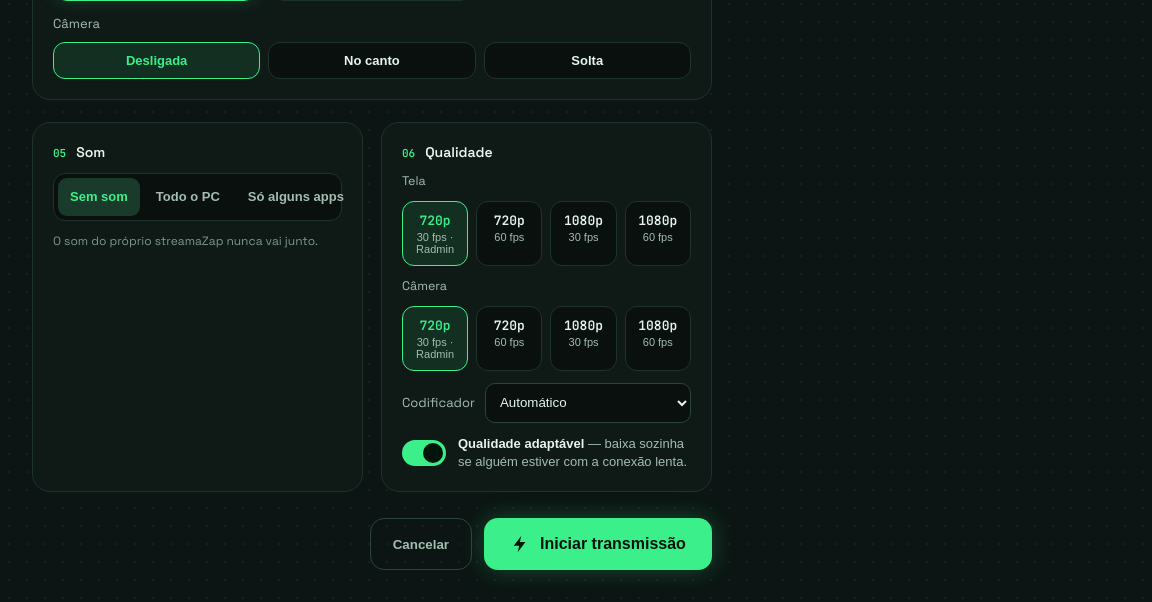
Test: CriarScreen › erro: roomCreate rejeitando mostra a mensagem e libera o botão
(page scrolled)
Click the button "Iniciar transmissão" at point(598, 544), box [484,518,712,570]
(page scrolled)
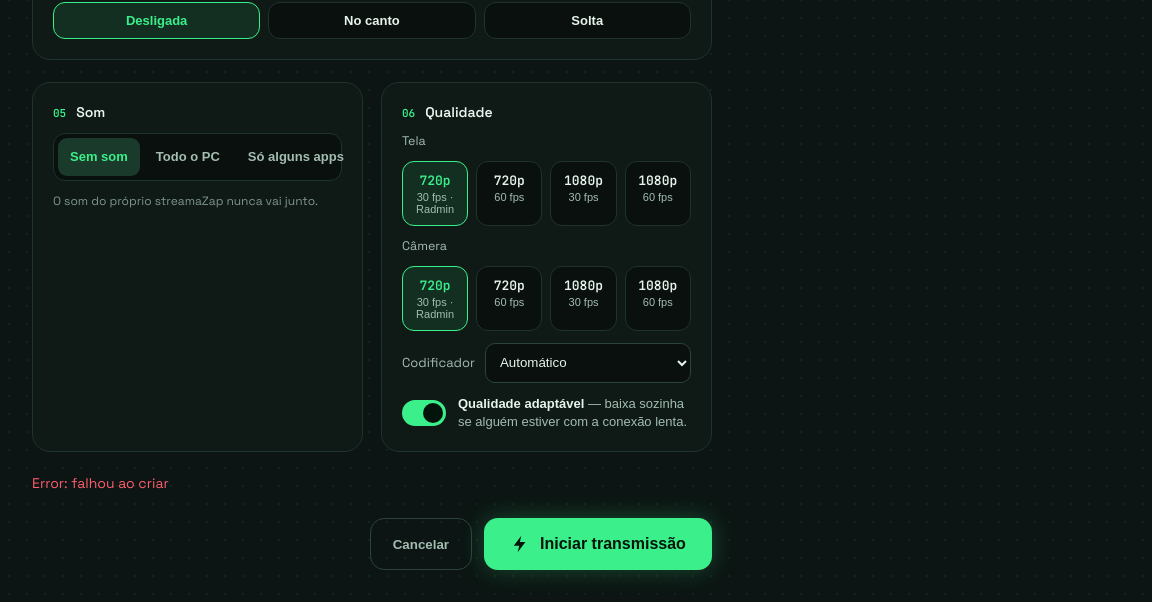
expect the text "Error: falhou ao criar" is shown: met, box [32,474,169,492]
